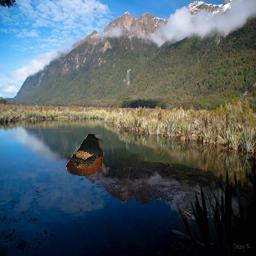Swallow: (66, 134, 103, 176)
